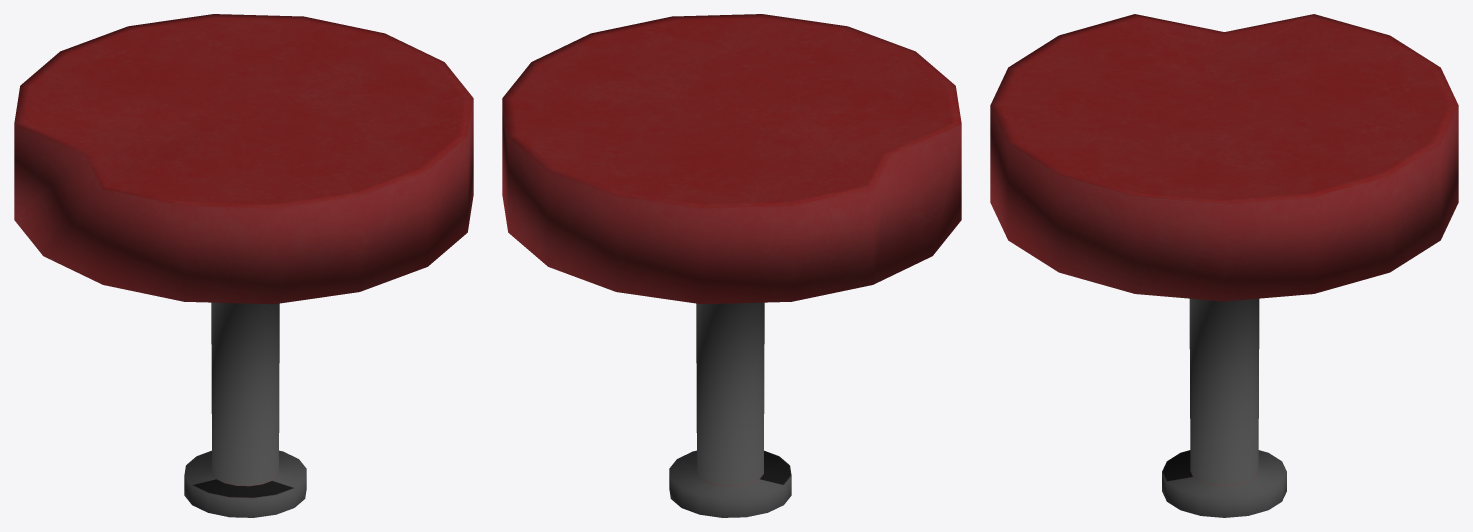
File: Silla_Redonda_Alta.fbx
The picture shows the model from 3 angles, left to right: view 1: azimuth 30°, elevation 25°; view 2: azimuth 150°, elevation 25°; view 3: azimuth 270°, elevation 25°; orthographic projection.
Parts seen in each view (by area): view 1: Silla_Redonda_Alta; view 2: Silla_Redonda_Alta; view 3: Silla_Redonda_Alta.
Part boxes in pixels (x1,y1,x2,y2): Silla_Redonda_Alta: (14,14,473,517); Silla_Redonda_Alta: (502,14,961,517); Silla_Redonda_Alta: (990,14,1458,517).
Bounding box in the file's own units: 82.11 × 74.57 × 82.11.
